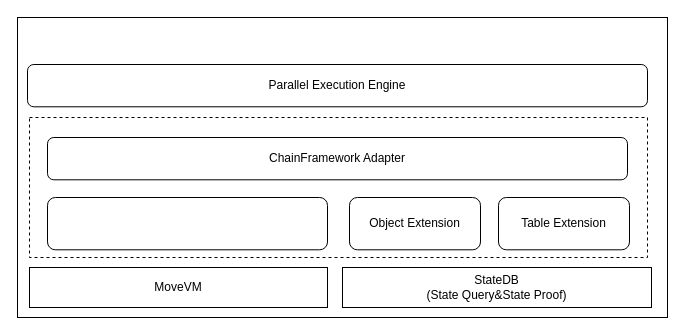
The diagram is 685 pixels wide and 335 high, and some of its shapes have lost their labels. Each missing label, with the box of its shape:
MoveOS: (37, 24, 637, 64)
MoveOS Framework (Transaction Abstraction, Account Abstraction): (46, 196, 328, 250)
